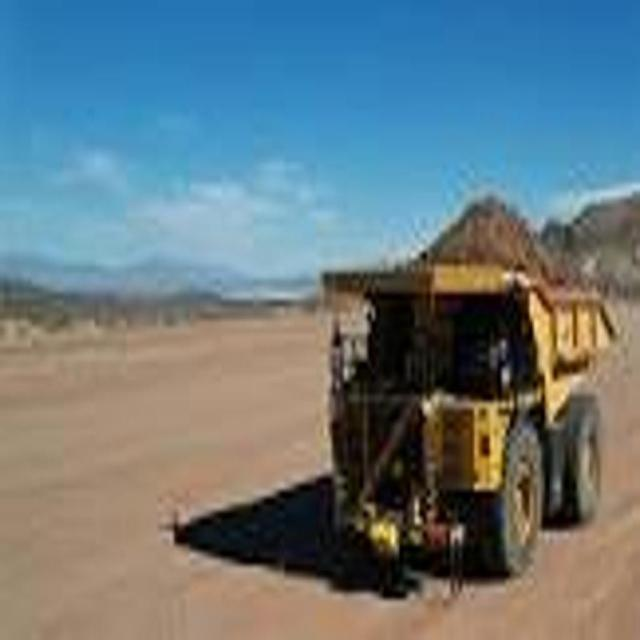dump_truck: (319, 176, 614, 605)
